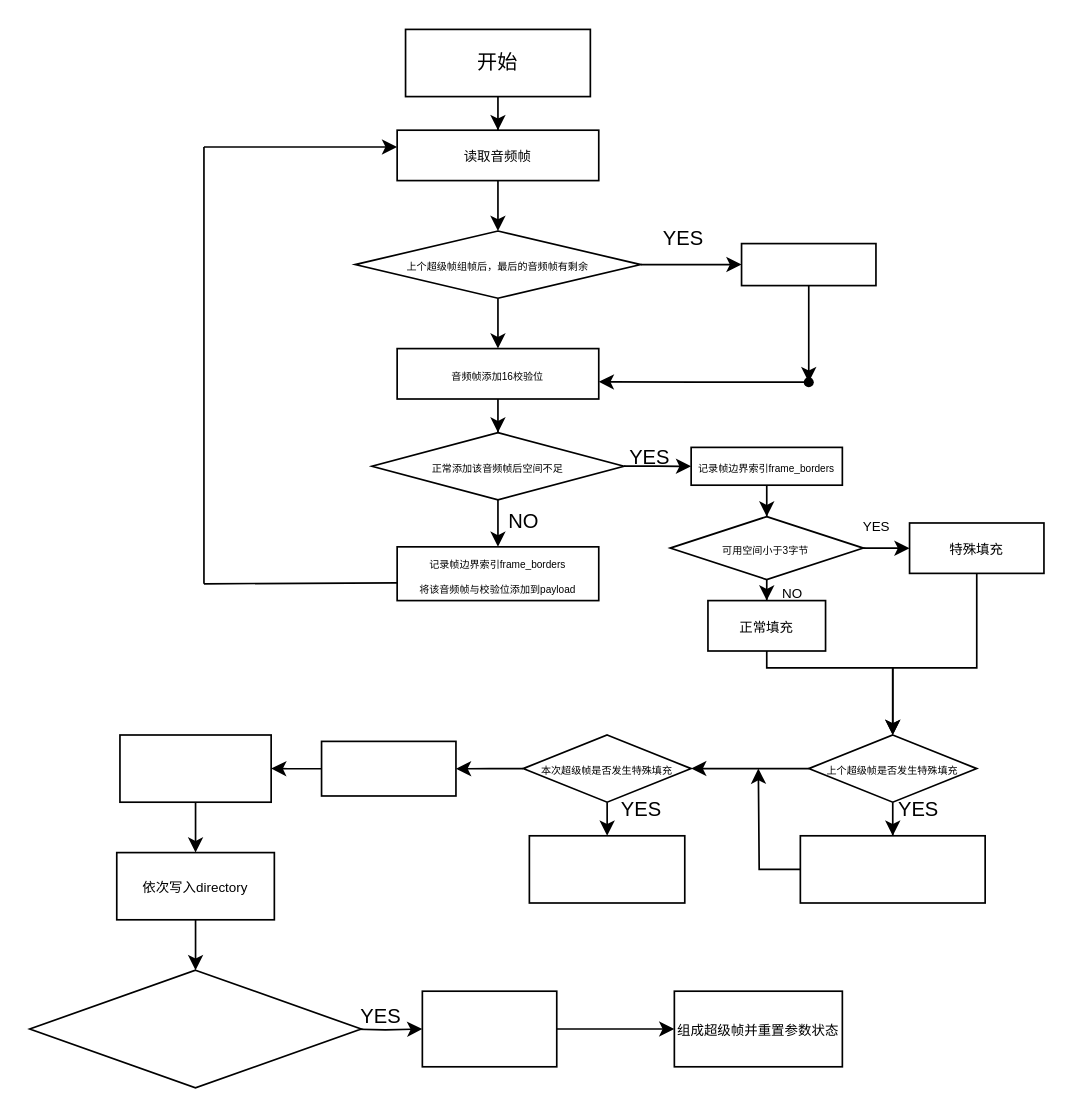
Image size: 1074x1117. Some labels were removed from this diagram. The centre of each missing label's shape, as x and y in pixels:
"依据填充字节数进行分类处理" goes at pixel 489 1028.
"写入header" goes at pixel 388 768.
"写入payload" goes at pixel 194 767.
"写入最后 directory 时（逆序写入），上个音频帧发生特殊填充" goes at pixel 194 1028.
"将剩余部分放入新的超级帧中" goes at pixel 808 264.
"边界索引减一，不必再描述本次超级帧中最后一个音频帧的边界" goes at pixel 606 868.
"边界索引加一，用于描述上个超级帧最后的音频帧边界" goes at pixel 892 868.
